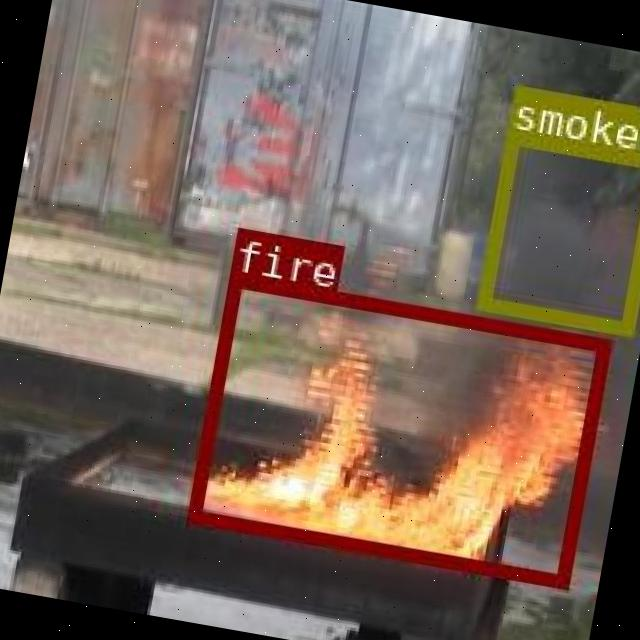fire: (185, 270, 608, 584)
smoke: (475, 127, 640, 334)
